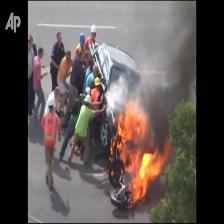fire: (109, 103, 182, 203)
smoke: (114, 2, 195, 105)
